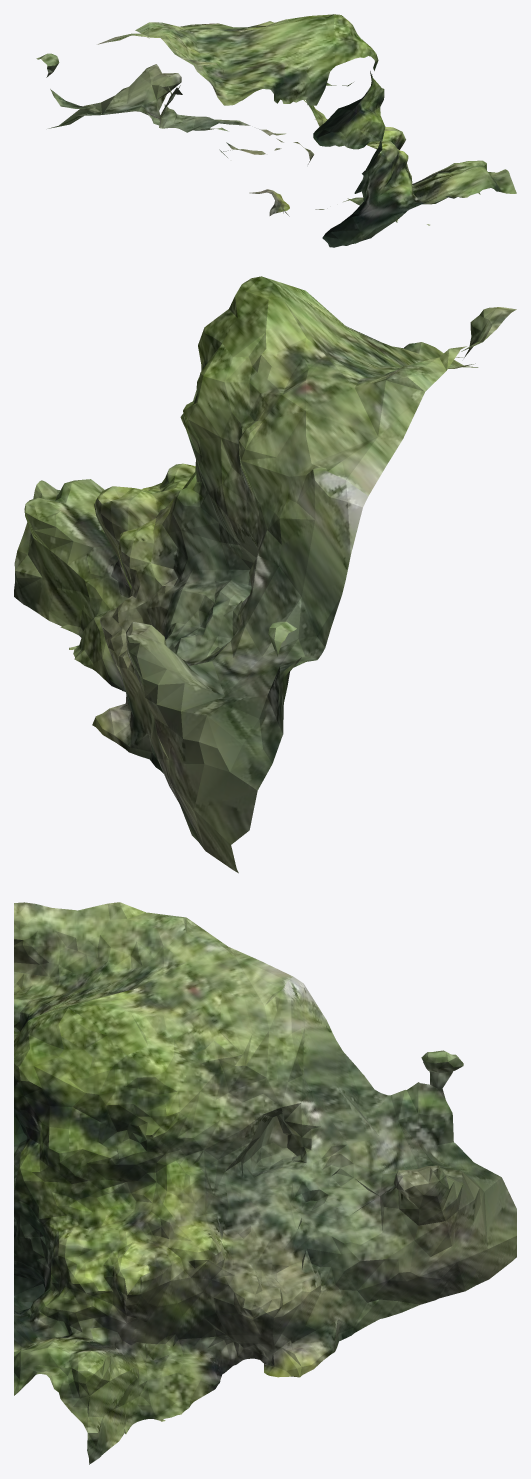
3 renders of one model, top to bottom at view 1: azimuth 30°, elevation 25°; view 2: azimuth 150°, elevation 25°; view 3: azimuth 270°, elevation 25°, orthographic. The views are drawn at different scales.
Bounding box in the file's own units: 26.11 × 20.05 × 26.11.
Materials: 3 (3 with a texture image).
